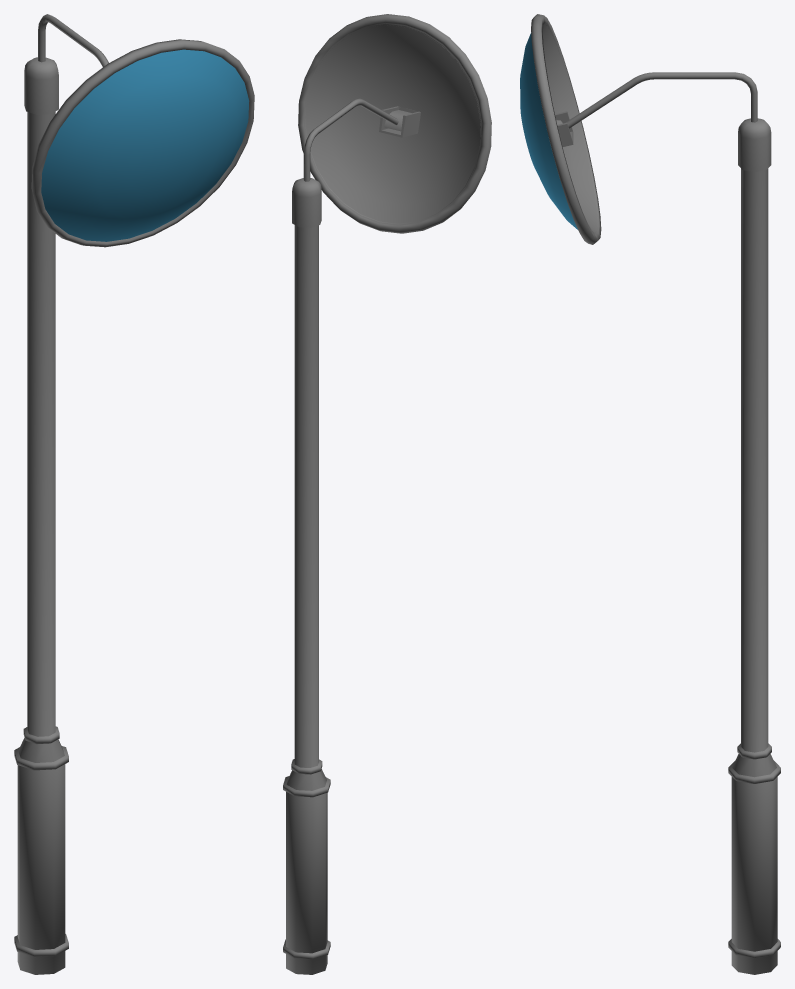
Rendered from SM_mirror_round_03.fbx.
The picture shows the model from 3 angles, left to right: view 1: azimuth 30°, elevation 25°; view 2: azimuth 150°, elevation 25°; view 3: azimuth 270°, elevation 25°; orthographic projection. The views are drawn at different scales.
Parts seen in each view (by area): view 1: Object32677; view 2: Object32677; view 3: Object32677.
Boxes of the visible parts, left/top/right/bottom form: Object32677: left=14, top=14, right=254, bottom=974; Object32677: left=283, top=14, right=491, bottom=974; Object32677: left=520, top=14, right=780, bottom=974.
Size of the model in its own units: 30.32 by 132 by 33.28.
